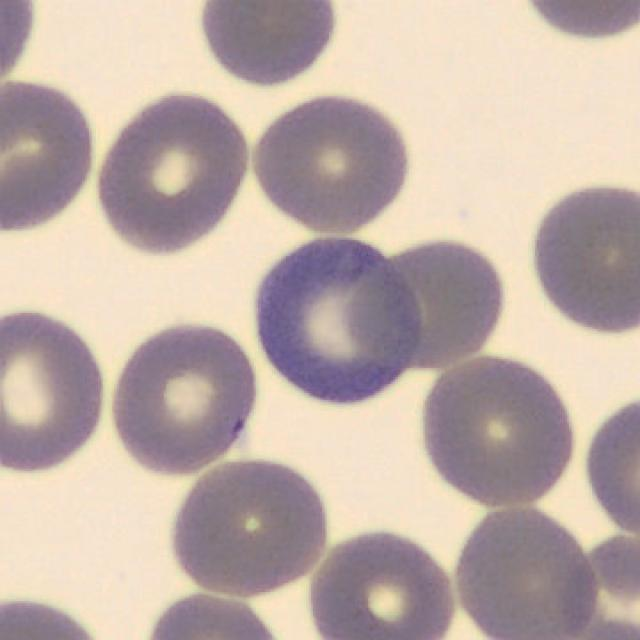Artefato: (256, 238, 425, 407)
